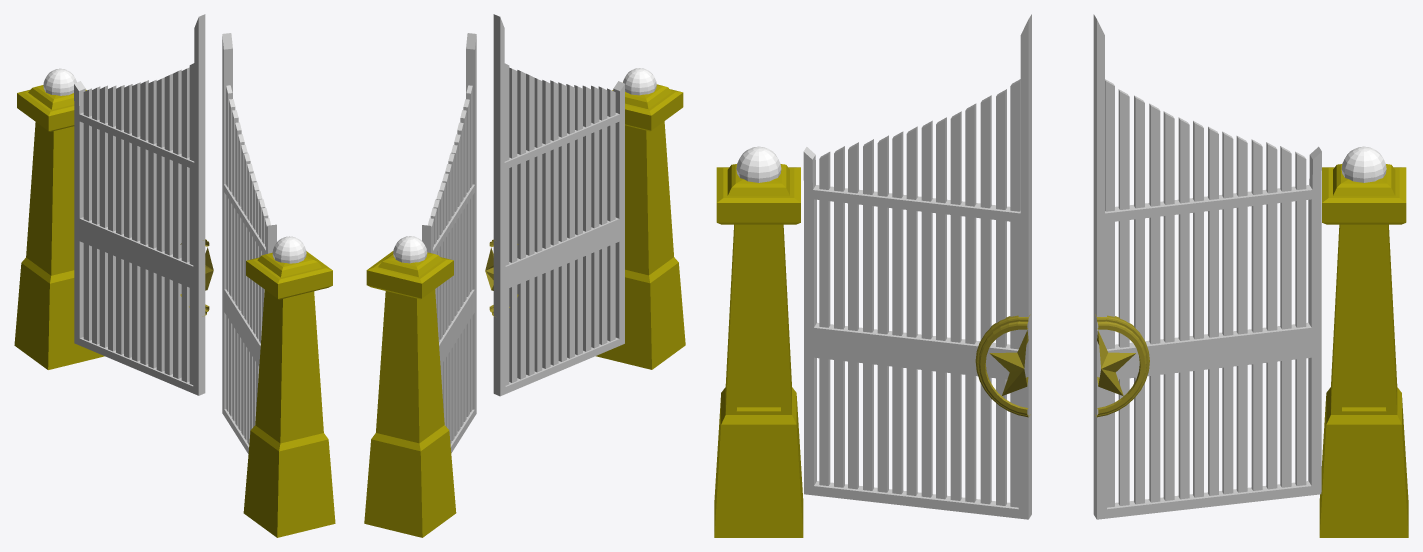
The model's file is Gate.fbx.
3 views of the same model, side by side, from view 1: azimuth 30°, elevation 25°; view 2: azimuth 150°, elevation 25°; view 3: azimuth 270°, elevation 25° (orthographic). The views are drawn at different scales.
Parts seen in each view (by area): view 1: Door, Pillar; view 2: Door, Pillar; view 3: Door, Pillar.
Boxes of the visible parts, x1,y1,x2,y2 form: Door: (74,14,276,454); Pillar: (14,68,335,537); Door: (422,14,624,452); Pillar: (364,68,685,537); Door: (803,14,1321,519); Pillar: (714,146,1408,537).
Bounding box in the file's own units: 50.08 × 231 × 275.
